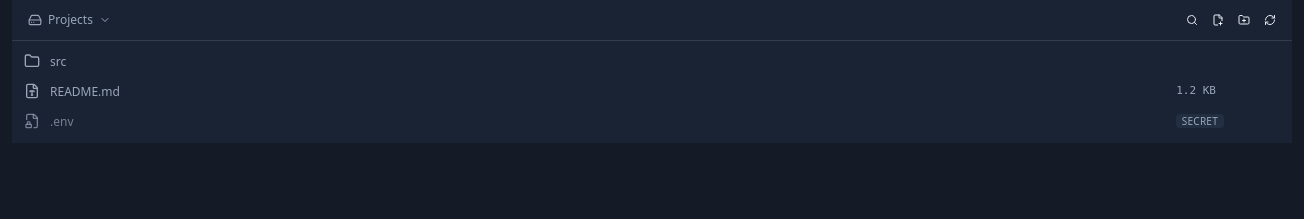
Scenario: FileBrowser › T2.6 fuzzy go-to-file filter (§2(d) keystroke-revealed) › shows a calm "no matches" message when the filter excludes everything
Click the button named "find file" at coordinates (1192, 20), box [1180,8,1204,32]
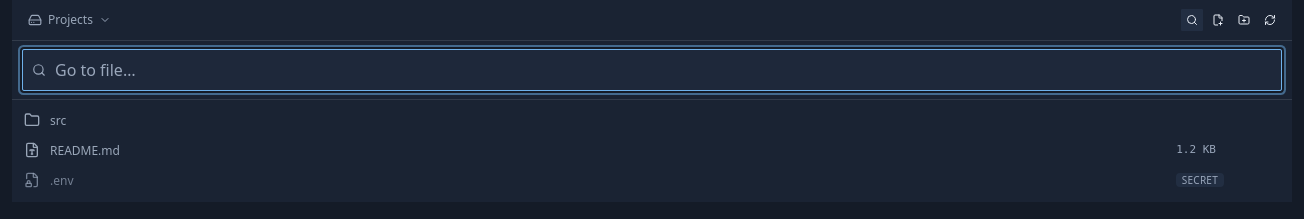
Type "zzzzz" into the search field labelled "Go to file…" at coordinates (652, 70), box [22,49,1282,91]
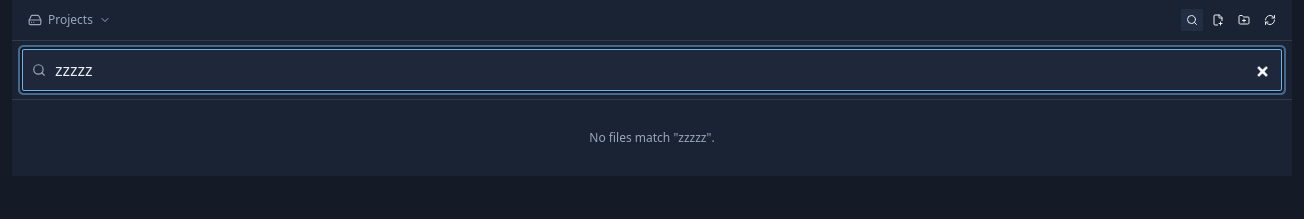
Expected: the text "No files match \"zzzzz\"." is shown, [589,129,715,146]
